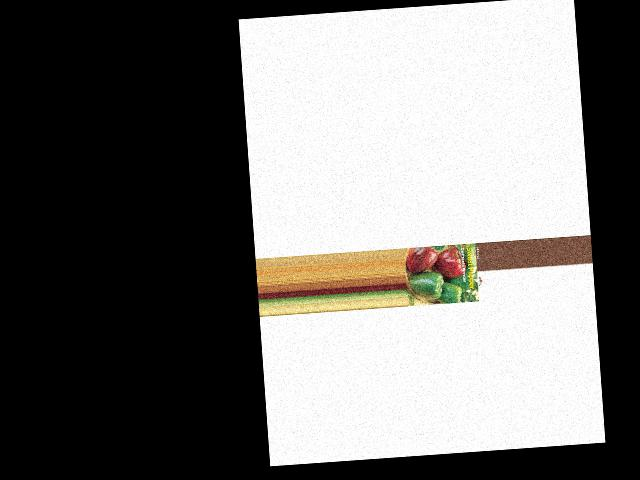bell_pepper: (433, 283, 465, 305)
